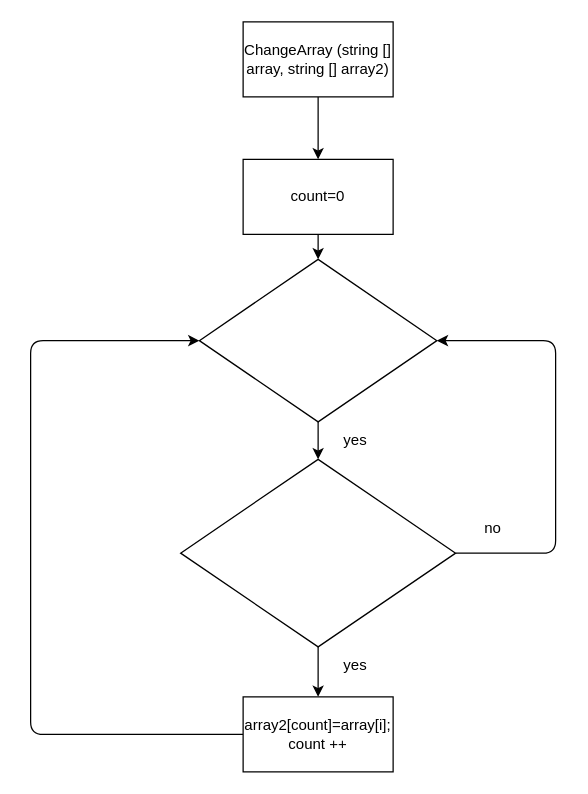
Some shapes in this 588 by 794 pixel diagram are drawn without their labels. The shapes that lost their labels are listed below. From the top down, each one's centre as x and y in pixels, then its label:
At point 317,340: "int i =0; i < array.GetLenght; i++".
At point 317,552: "array[i].Length <=3;".
